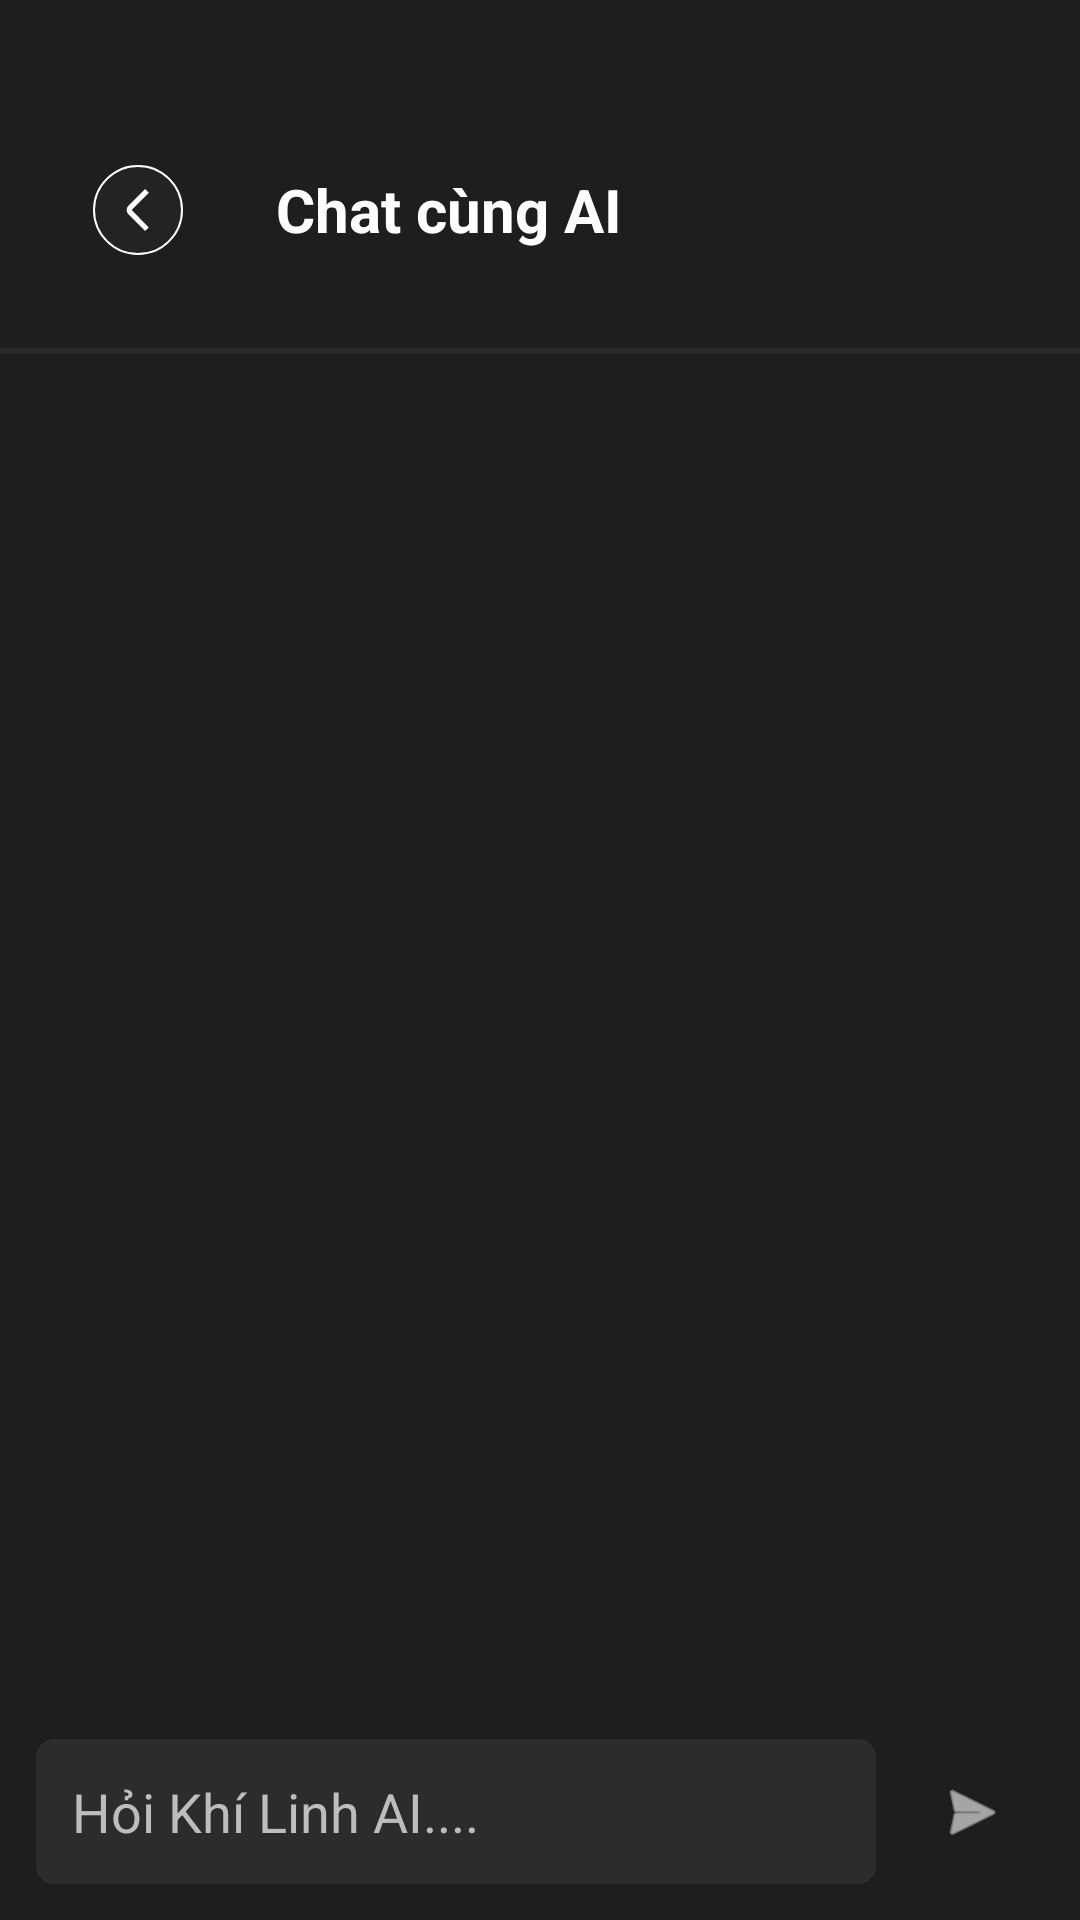

Named icons in this screenshot (1080x1920) and their bounding boxes, (x1, y1, x2, y2):
back: (93, 165, 183, 255)
send: (950, 1790, 996, 1835)
